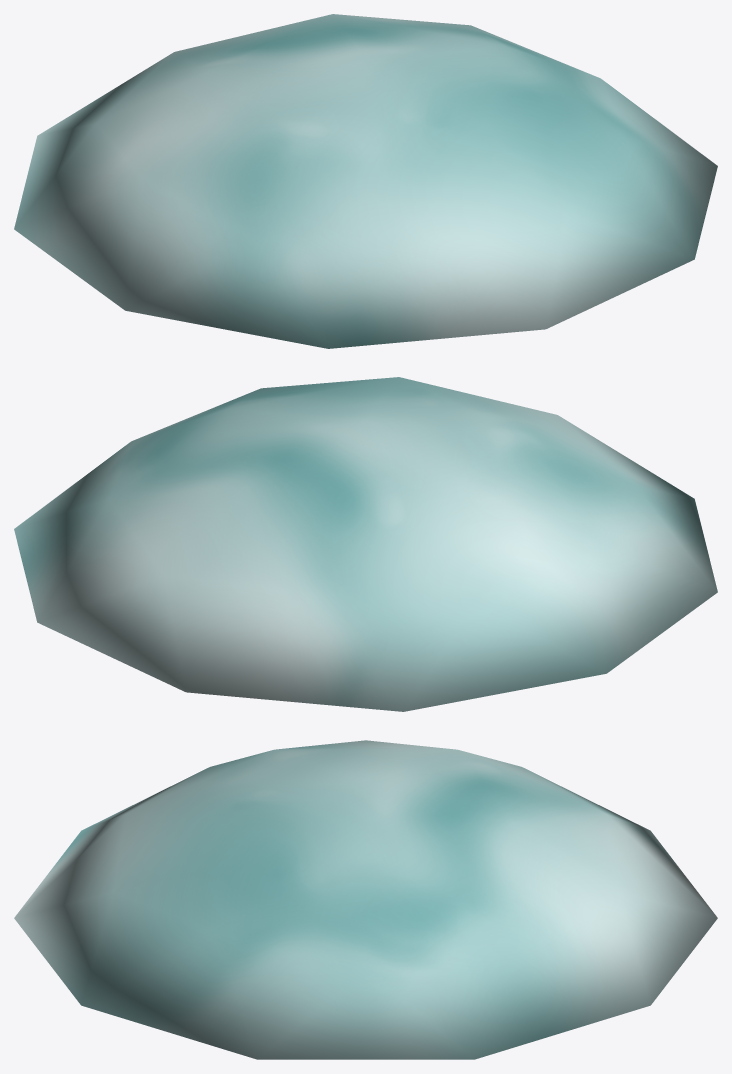
The model's file is SnowPatch.fbx.
3 renders of one model, top to bottom at view 1: azimuth 30°, elevation 25°; view 2: azimuth 150°, elevation 25°; view 3: azimuth 270°, elevation 25°, orthographic. The views are drawn at different scales.
Parts seen in each view (by area): view 1: SnowPatch; view 2: SnowPatch; view 3: SnowPatch.
Part boxes in pixels (box(x1,y1,x2,y2)): SnowPatch: box(14, 14, 717, 348); SnowPatch: box(14, 377, 717, 711); SnowPatch: box(14, 740, 717, 1059).
Bounding box in the file's own units: 24.39 × 25.64 × 5.44.
